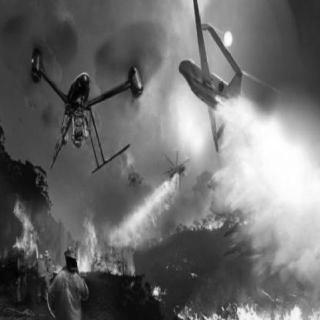Fire: (0, 193, 156, 277), (178, 199, 238, 237)
